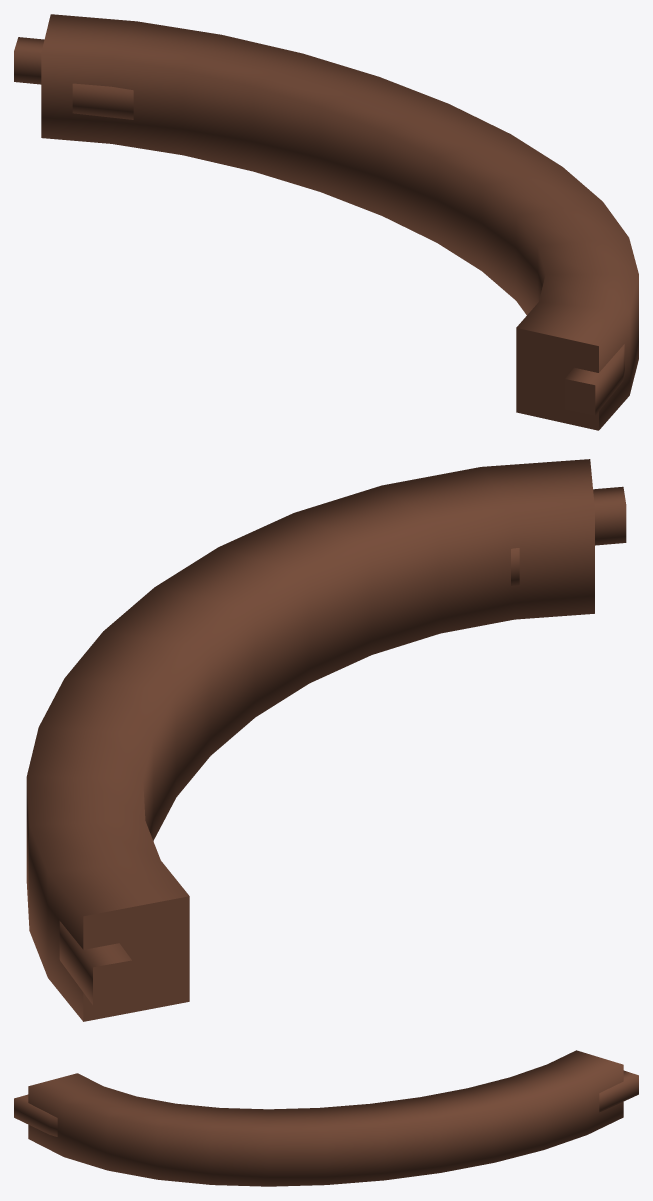
The model's file is Magarimichi.fbx.
3 renders of one model, top to bottom at view 1: azimuth 30°, elevation 25°; view 2: azimuth 150°, elevation 25°; view 3: azimuth 270°, elevation 25°, orthographic. The views are drawn at different scales.
Visible parts, largest first — view 1: BezierCurve.001, BezierCurve.002, BezierCurve.003; view 2: BezierCurve.001, BezierCurve.002; view 3: BezierCurve.001, BezierCurve.002.
Part boxes in pixels (x1,y1,x2,y2): BezierCurve.001: (41, 14, 638, 430); BezierCurve.002: (14, 37, 624, 415); BezierCurve.003: (72, 83, 133, 119); BezierCurve.001: (26, 459, 594, 1021); BezierCurve.002: (59, 486, 626, 1005); BezierCurve.001: (28, 1050, 623, 1186); BezierCurve.002: (14, 1070, 638, 1136).
Size of the model in its own units: 13.35 by 3.93 by 42.14.
